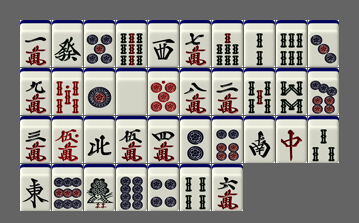0m: (52, 116, 83, 163)
0p: (148, 68, 179, 115)
0s: (52, 68, 83, 115)
1m: (20, 20, 51, 67)
1p: (84, 68, 115, 115)
1s: (84, 164, 115, 211)
1z: (20, 164, 51, 211)
2m: (212, 68, 243, 115)
2p: (180, 116, 211, 163)
2s: (244, 20, 275, 67)
2z: (244, 116, 275, 163)
3m: (20, 116, 51, 163)
3p: (308, 20, 339, 67)
3s: (308, 116, 339, 163)
3z: (148, 20, 179, 67)
4m: (148, 116, 179, 163)
4p: (148, 164, 179, 211)
4s: (180, 164, 211, 211)
4z: (84, 116, 115, 163)
5m: (116, 116, 147, 163)
5p: (84, 20, 115, 67)
5s: (244, 68, 275, 115)
5z: (116, 68, 147, 115)
6m: (212, 164, 243, 211)
6p: (212, 116, 243, 163)
6s: (276, 20, 307, 67)
6z: (52, 20, 83, 67)
7m: (180, 20, 211, 67)
7p: (308, 68, 339, 115)
7s: (212, 20, 243, 67)
7z: (276, 116, 307, 163)
8m: (180, 68, 211, 115)
8p: (116, 164, 147, 211)
8s: (276, 68, 307, 115)
9m: (20, 68, 51, 115)
9p: (52, 164, 83, 211)
9s: (116, 20, 147, 67)
